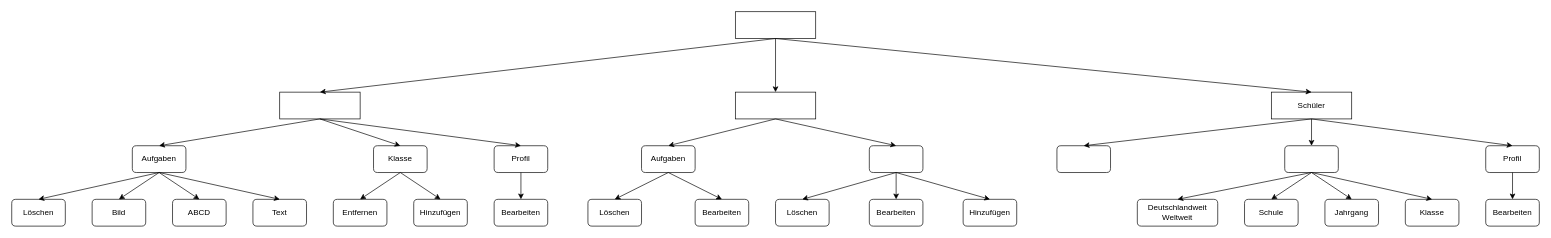
Image size: 1551x238. Some labels were removed from this diagram. The centre of each missing label's shape, as x and y in pixels:
Admin: pixel 775 105
Aufgaben bearbeiten: pixel 1083 159
Benutzer: pixel 896 159
Lehrer: pixel 319 105
Login: pixel 775 25
Scoreboard: pixel 1311 159
